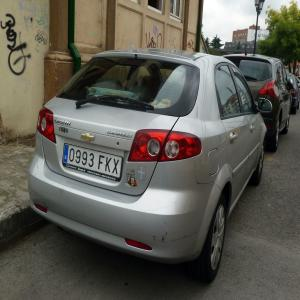Vehicle-registration-plate: (61, 140, 123, 185)
